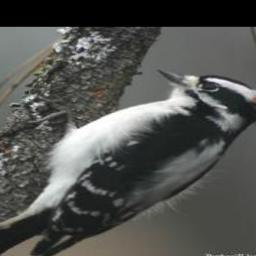Woodpecker: (0, 68, 256, 256)
